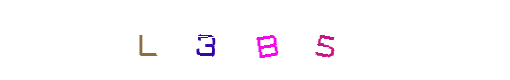3: (215, 0, 295, 80)
5: (227, 0, 307, 80)
B: (222, 0, 302, 80)
L: (167, 0, 247, 80)
